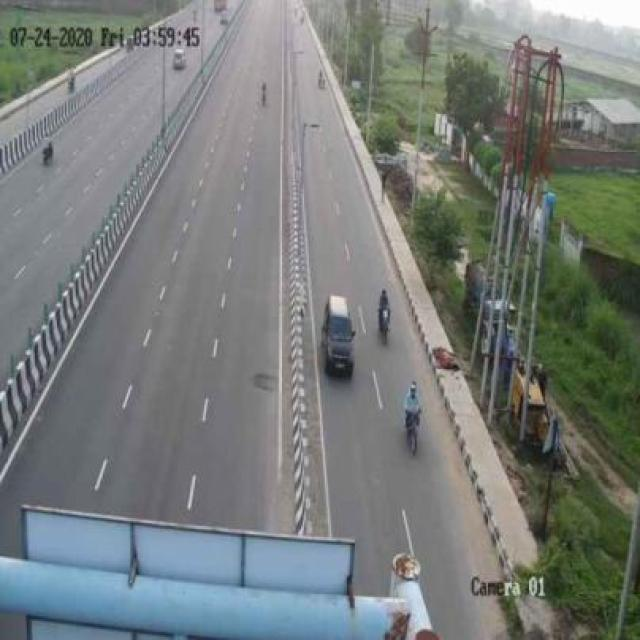car: (318, 288, 366, 381)
